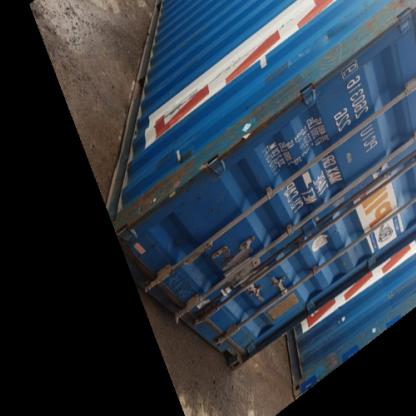Damage: (304, 3, 406, 86), (214, 84, 304, 166), (119, 165, 207, 228), (137, 240, 199, 266)
